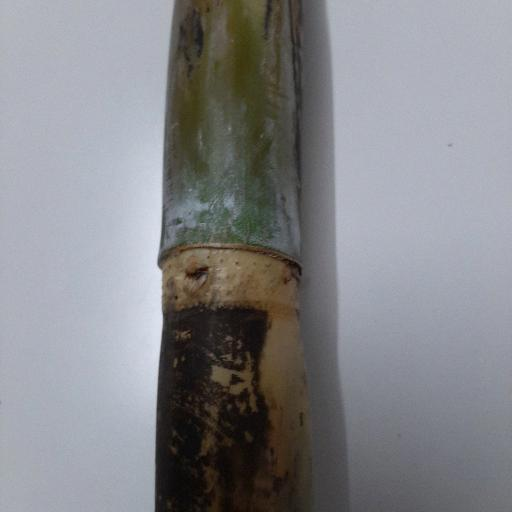Damage_Bud: (183, 263, 212, 296)
